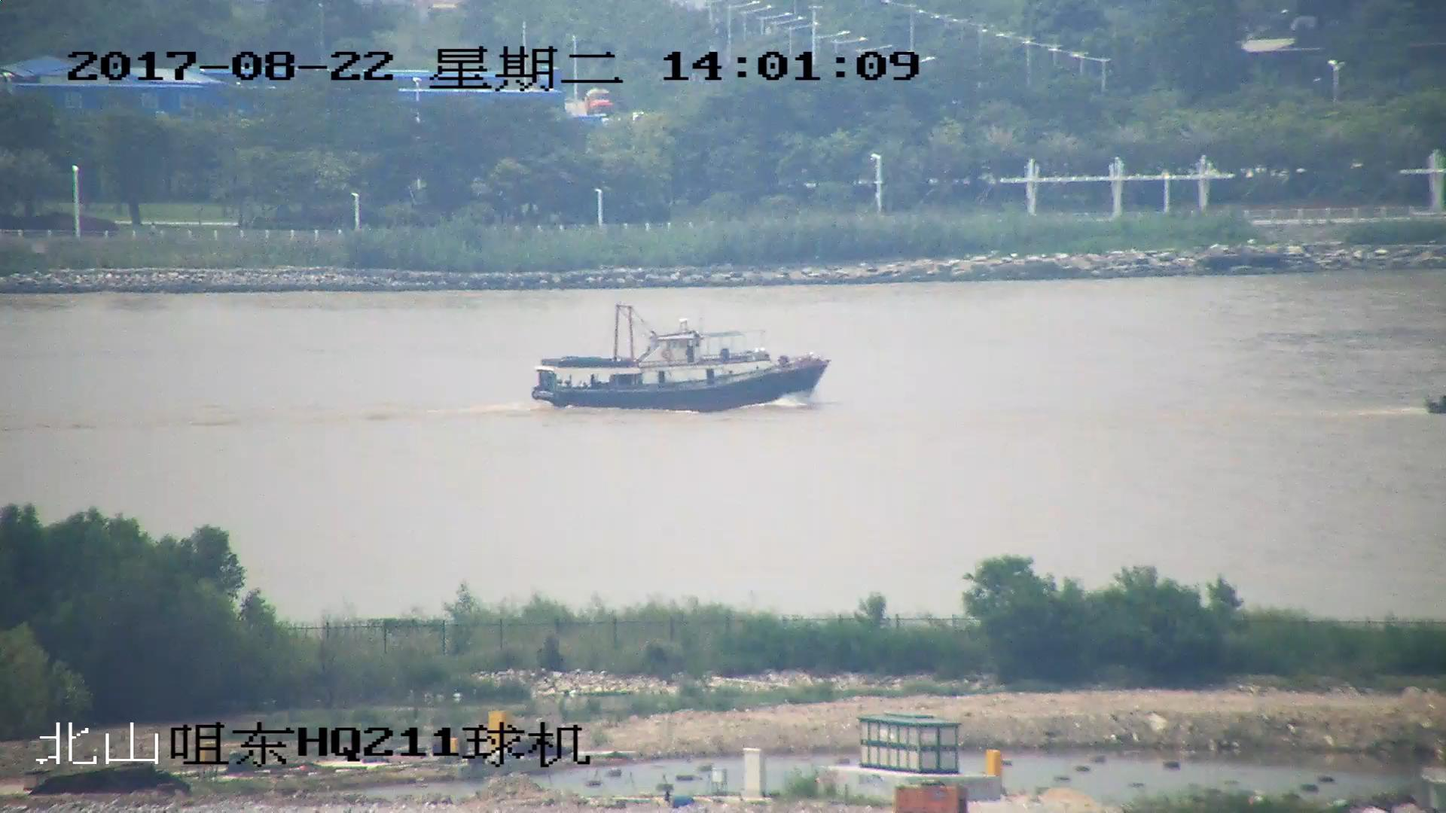fishing boat: (529, 303, 827, 413)
